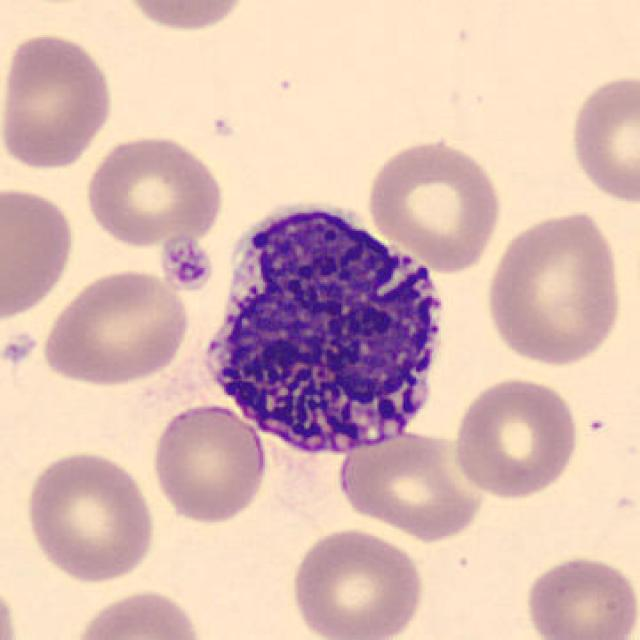basophil: (203, 199, 448, 465)
platelets: (158, 238, 217, 289)
rbc: (83, 125, 247, 259), (490, 202, 625, 358), (362, 139, 496, 274), (332, 424, 492, 536), (449, 378, 582, 511), (45, 276, 203, 385), (4, 28, 118, 171), (28, 451, 162, 572), (297, 527, 425, 640), (145, 399, 259, 521), (515, 546, 640, 640), (560, 65, 640, 203), (0, 178, 74, 317), (76, 592, 206, 640), (124, 0, 246, 41), (0, 590, 24, 640)
